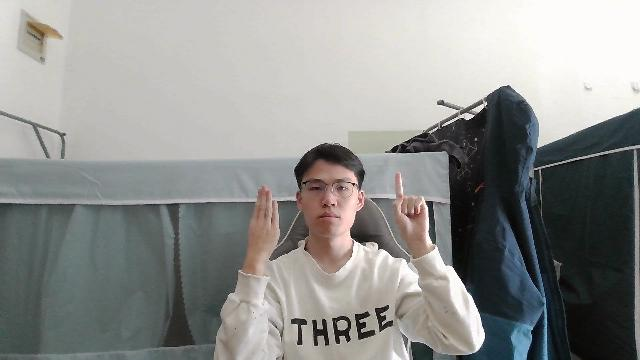four: (246, 182, 281, 260)
one: (392, 171, 431, 244)
